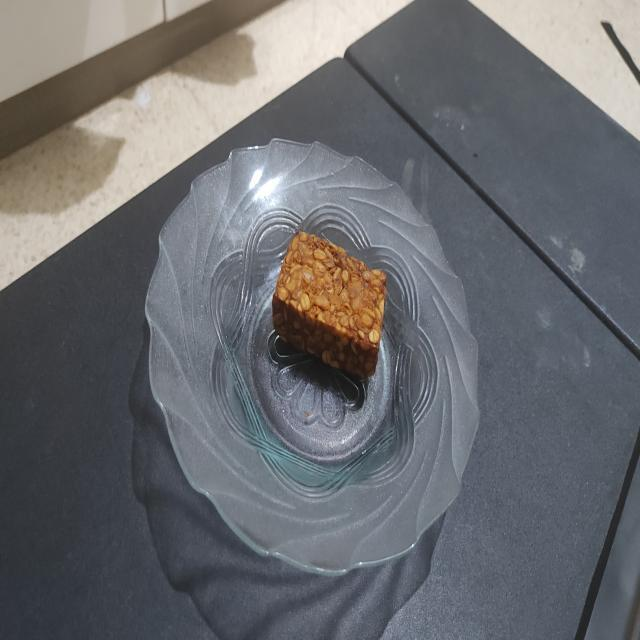tempe_goreng: (273, 232, 387, 378)
